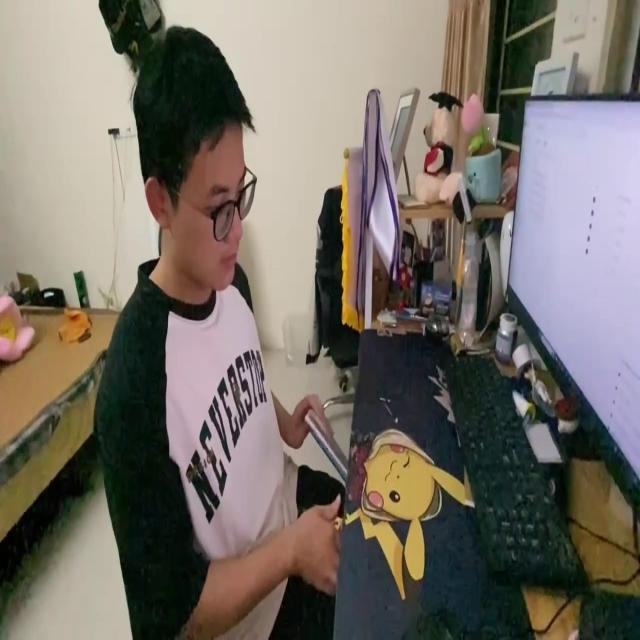book: (304, 402, 349, 492)
laptop: (501, 88, 640, 524)
student: (85, 19, 340, 640)
